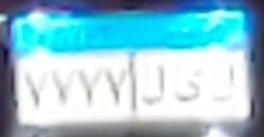7: (104, 68, 130, 106), (77, 69, 103, 103), (51, 70, 76, 105), (24, 70, 49, 105)
laam: (212, 59, 239, 107), (140, 63, 166, 107)
yaa: (171, 65, 205, 109)
